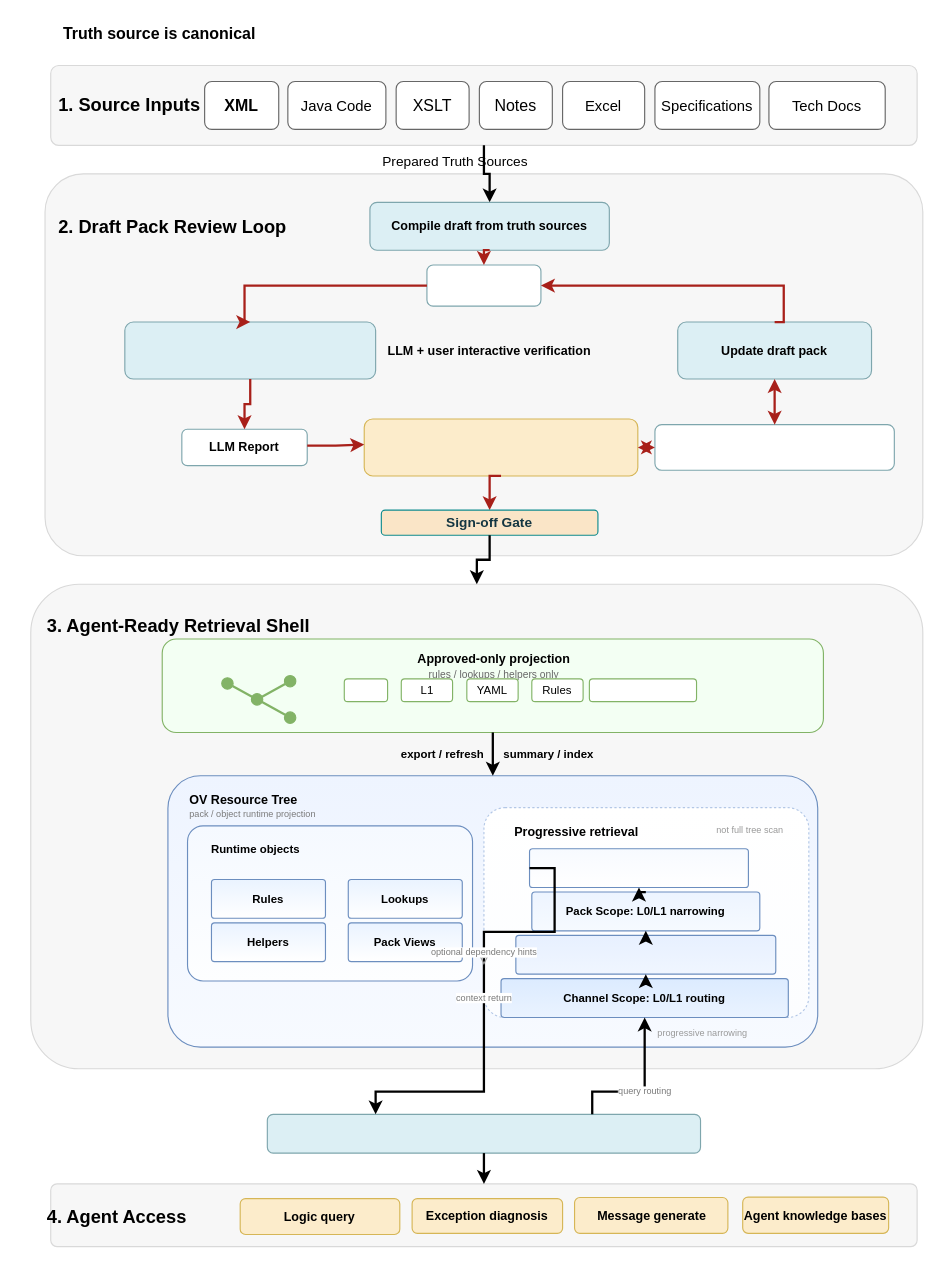
Image size: 944x1267. Some labels were removed from this diagram. The box of each missing label's shape, as (x1, y1, x2, y2) in pixels:
Agent/LLM Access: (266, 1113, 701, 1153)
Draft Pack: (426, 264, 541, 306)
L0: (343, 678, 388, 702)
Lookups / Helpers: (588, 678, 697, 702)
Product Scope: L0/L1 filter: (515, 934, 776, 974)
Review feedback: LLM suggestions / user comments: (654, 424, 894, 470)
Runtime Objects: L2 YAML: (528, 848, 748, 887)
User reviews report, confidence, and ambiguity: (363, 418, 638, 476)
Validate, review, and explain draft pack: (124, 321, 376, 379)
